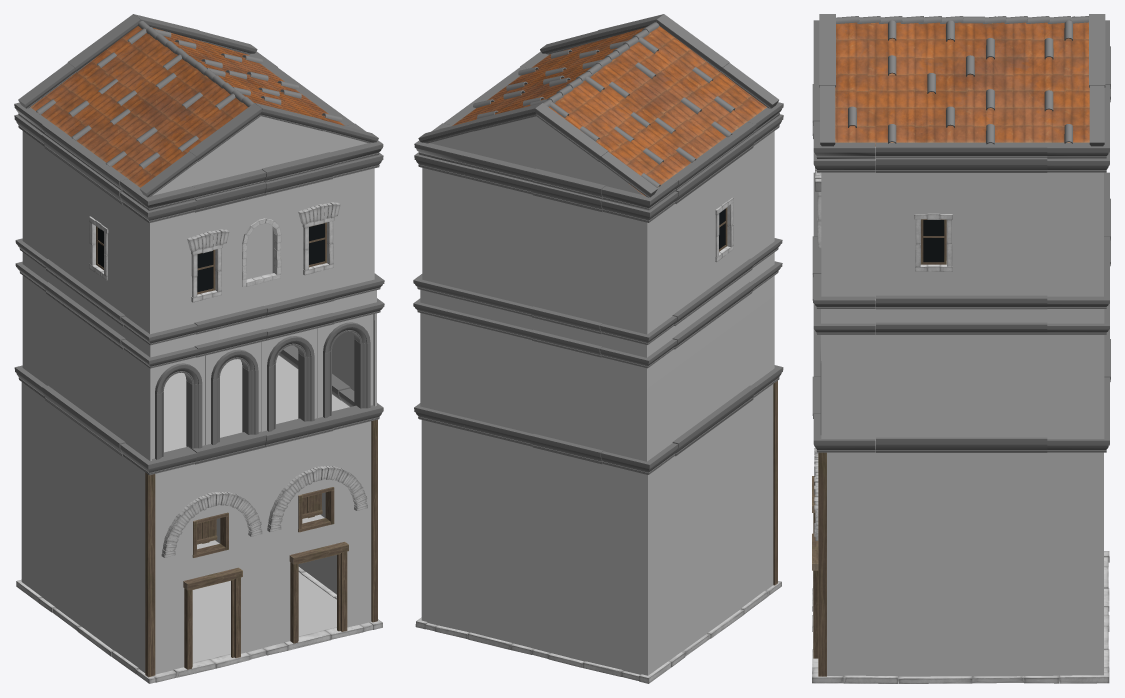
Rendered from SM_insulae_building_04.fbx.
3 renders of one model, left to right at view 1: azimuth 30°, elevation 25°; view 2: azimuth 150°, elevation 25°; view 3: azimuth 270°, elevation 25°, orthographic. The views are drawn at different scales.
Parts seen in each view (by area): view 1: Box290; view 2: Box290; view 3: Box290.
Boxes of the visible parts, x1,y1,x2,y2 form: Box290: (14,14,384,683); Box290: (413,14,783,683); Box290: (812,14,1110,683).
Size of the model in its own units: 308 by 678 by 303.
